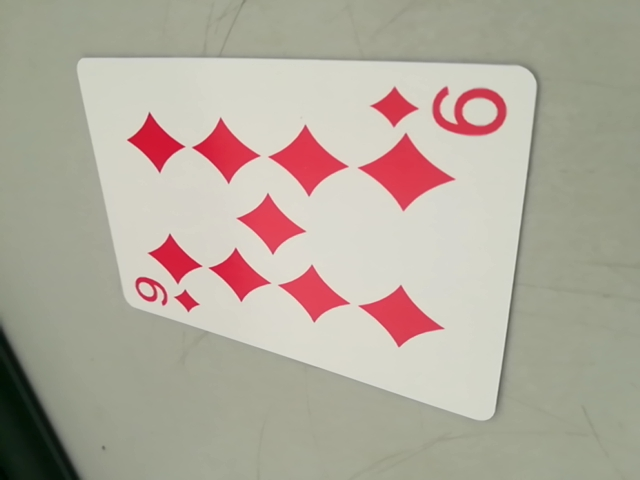fk 9: (371, 78, 511, 142), (128, 272, 207, 318)
